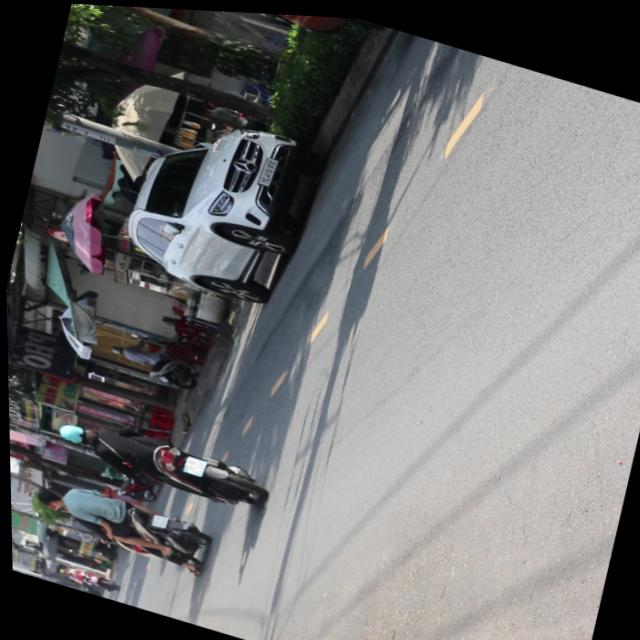helmet: (51, 418, 92, 446)
licenseplate: (46, 405, 267, 514), (20, 469, 213, 574)
motorcyclist: (26, 483, 64, 510)
nohelmet: (179, 453, 203, 474), (146, 510, 164, 527)
